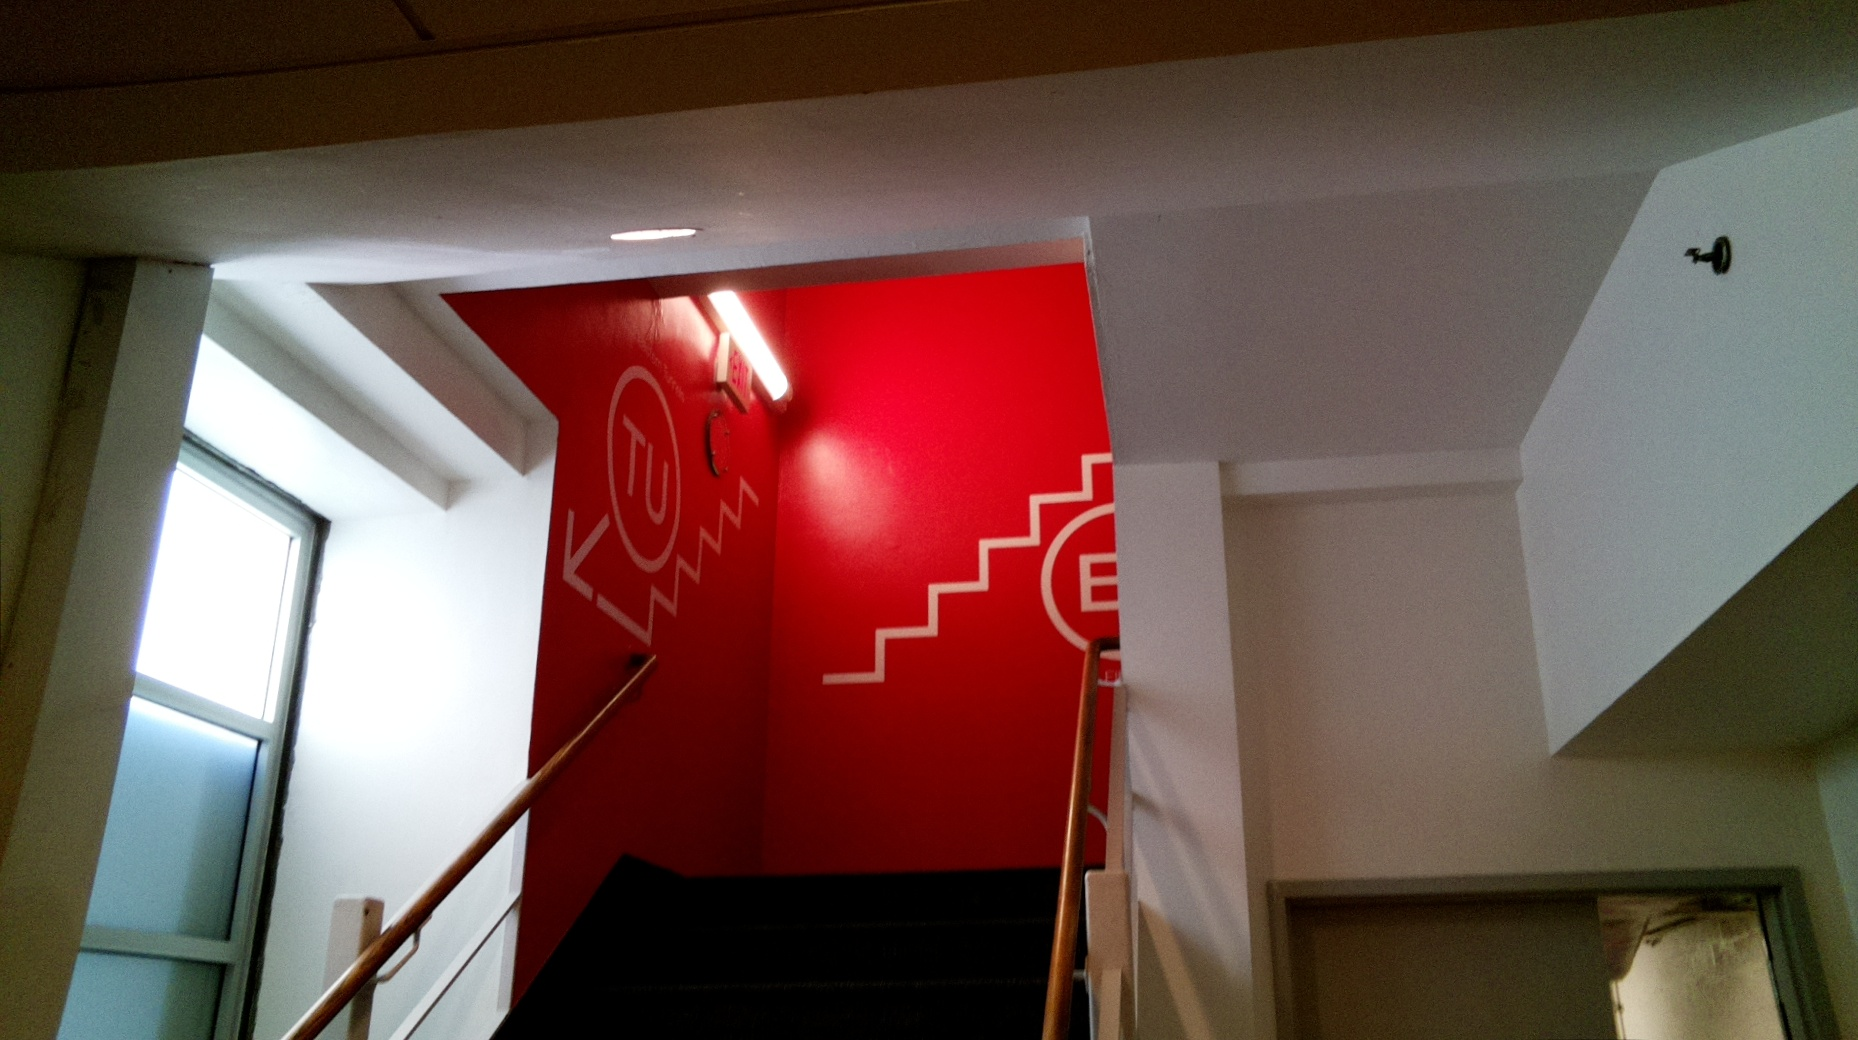exit sign: (711, 328, 755, 417)
